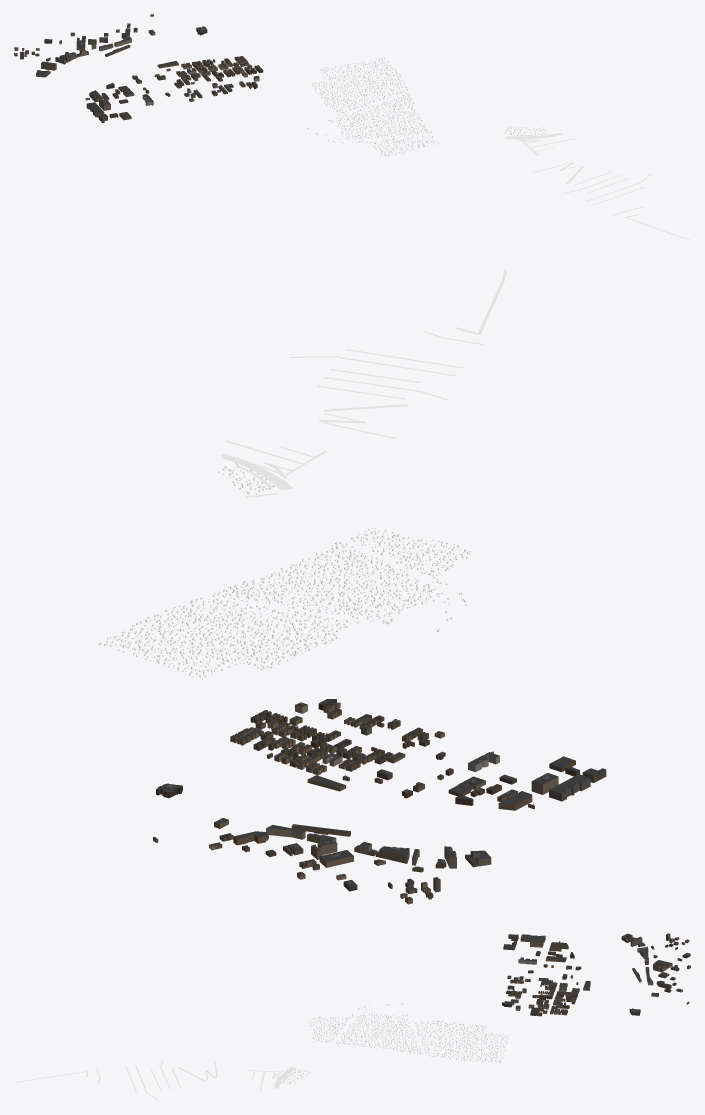
File: manhattan_+02_-03.glb
3 renders of one model, top to bottom at view 1: azimuth 30°, elevation 25°; view 2: azimuth 150°, elevation 25°; view 3: azimuth 270°, elevation 25°, orthographic. The views are drawn at different scales.
Visible parts, largest first — view 1: BLD_lowrise_+02_-03, TREE_+02_-03, BLD_midrise_+02_-03, ROAD_+02_-03; view 2: BLD_lowrise_+02_-03, TREE_+02_-03, BLD_midrise_+02_-03, ROAD_+02_-03; view 3: BLD_lowrise_+02_-03, TREE_+02_-03, BLD_midrise_+02_-03, ROAD_+02_-03.
Boxes of the visible parts, x1=… form: BLD_lowrise_+02_-03: x1=14, y1=14, x2=263, y2=120; TREE_+02_-03: x1=307, y1=57, x2=548, y2=156; BLD_midrise_+02_-03: x1=20, y1=37, x2=259, y2=122; ROAD_+02_-03: x1=503, y1=127, x2=690, y2=240; BLD_lowrise_+02_-03: x1=153, y1=699, x2=579, y2=904; TREE_+02_-03: x1=98, y1=462, x2=470, y2=679; BLD_midrise_+02_-03: x1=266, y1=702, x2=606, y2=892; ROAD_+02_-03: x1=220, y1=269, x2=507, y2=497; BLD_lowrise_+02_-03: x1=502, y1=937, x2=690, y2=1016; TREE_+02_-03: x1=281, y1=1003, x2=510, y2=1084; BLD_midrise_+02_-03: x1=508, y1=933, x2=672, y2=1010; ROAD_+02_-03: x1=14, y1=1061, x2=312, y2=1100.
Bounding box in the file's own units: 2975 × 52.76 × 5197.
